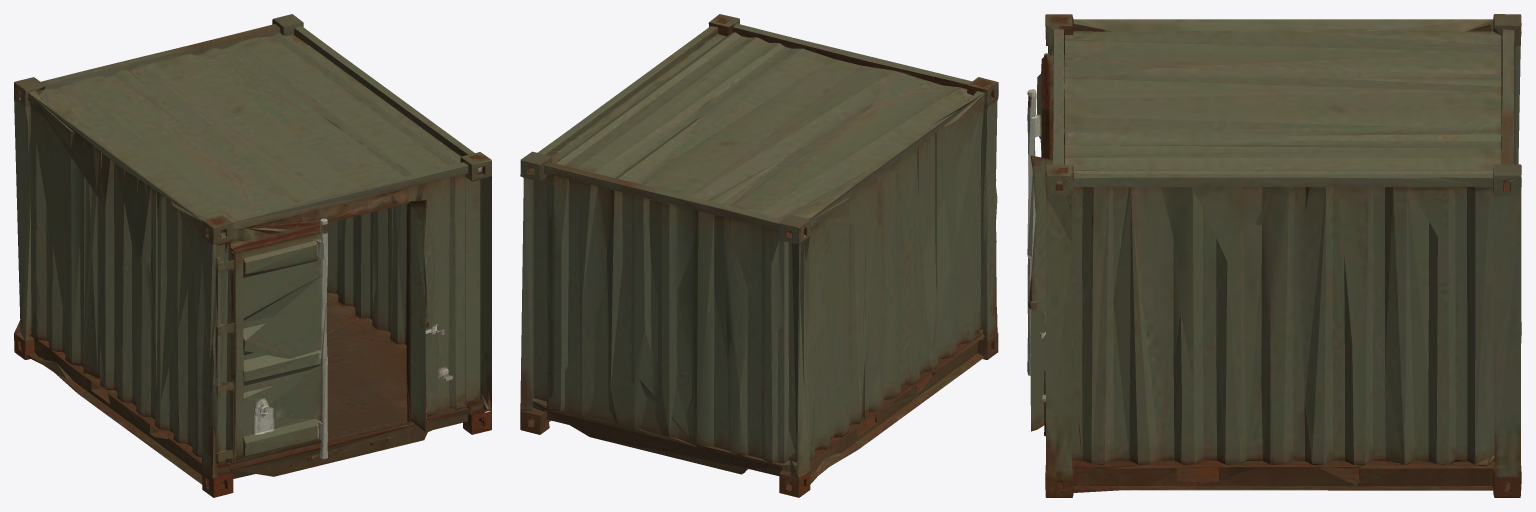
The model's file is deco_conteneur.glb.
3 views of the same model, side by side, from view 1: azimuth 30°, elevation 25°; view 2: azimuth 150°, elevation 25°; view 3: azimuth 270°, elevation 25° (orthographic). The views are drawn at different scales.
Bounding box in the file's own units: 1.48 × 1.37 × 1.9.
1 material, 1 textured.
